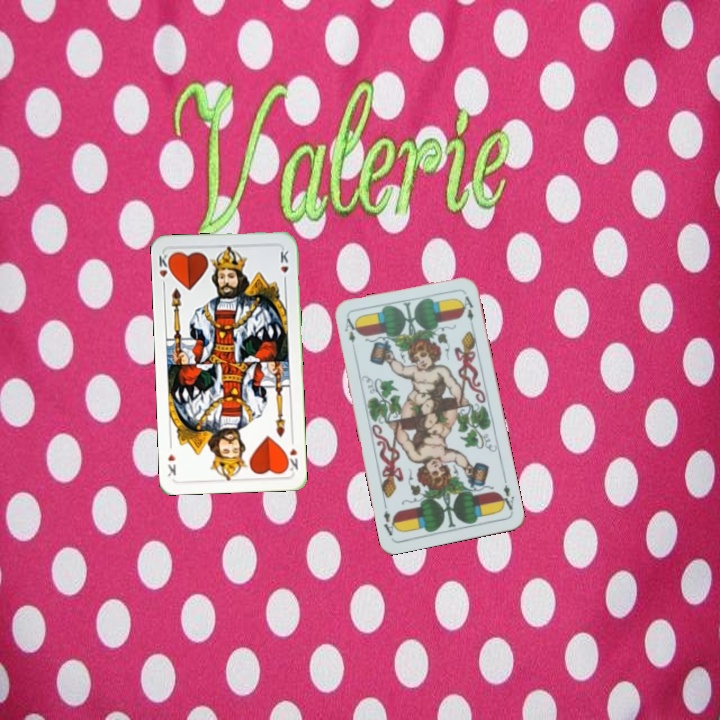EA: (496, 480, 517, 514), (340, 314, 360, 345)
HK: (154, 250, 174, 290), (282, 434, 300, 474)
